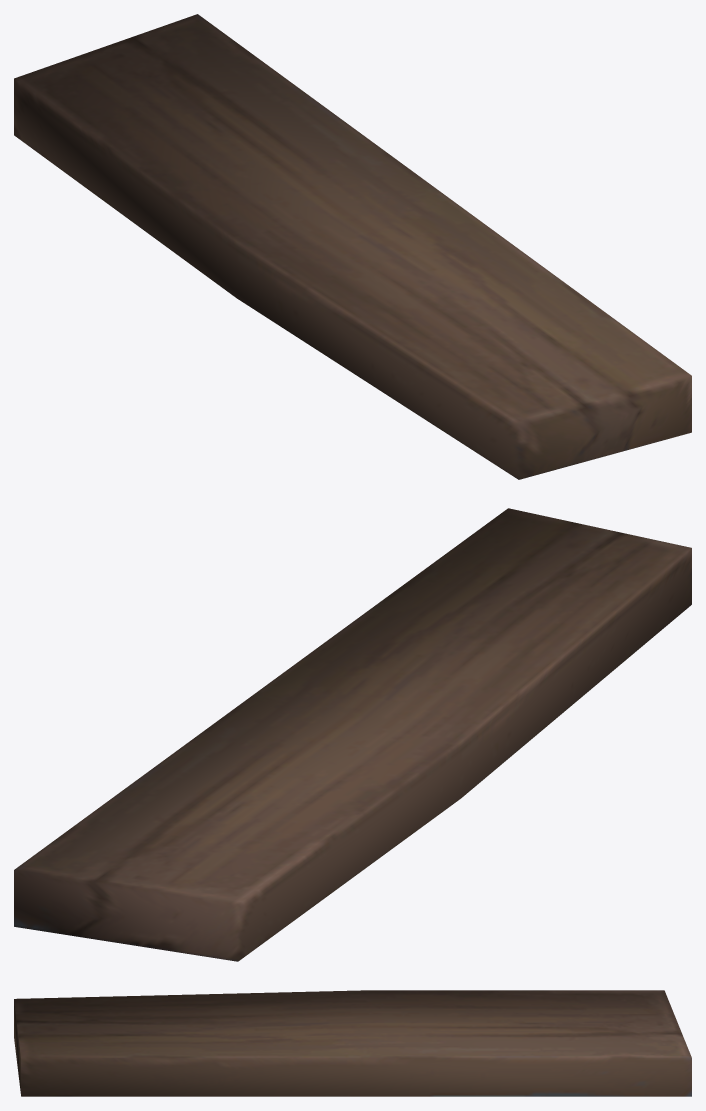
File: yw_shanlin_plank_001.FBX
3 renders of one model, top to bottom at view 1: azimuth 30°, elevation 25°; view 2: azimuth 150°, elevation 25°; view 3: azimuth 270°, elevation 25°, orthographic. The views are drawn at different scales.
Parts seen in each view (by area): view 1: yw_shanlin_plank_001; view 2: yw_shanlin_plank_001; view 3: yw_shanlin_plank_001.
Part boxes in pixels (bbox=[...]): yw_shanlin_plank_001: bbox=[14, 14, 691, 479]; yw_shanlin_plank_001: bbox=[14, 508, 691, 961]; yw_shanlin_plank_001: bbox=[14, 990, 691, 1096].
Bounding box in the file's own units: 175 × 742 × 46.55.
